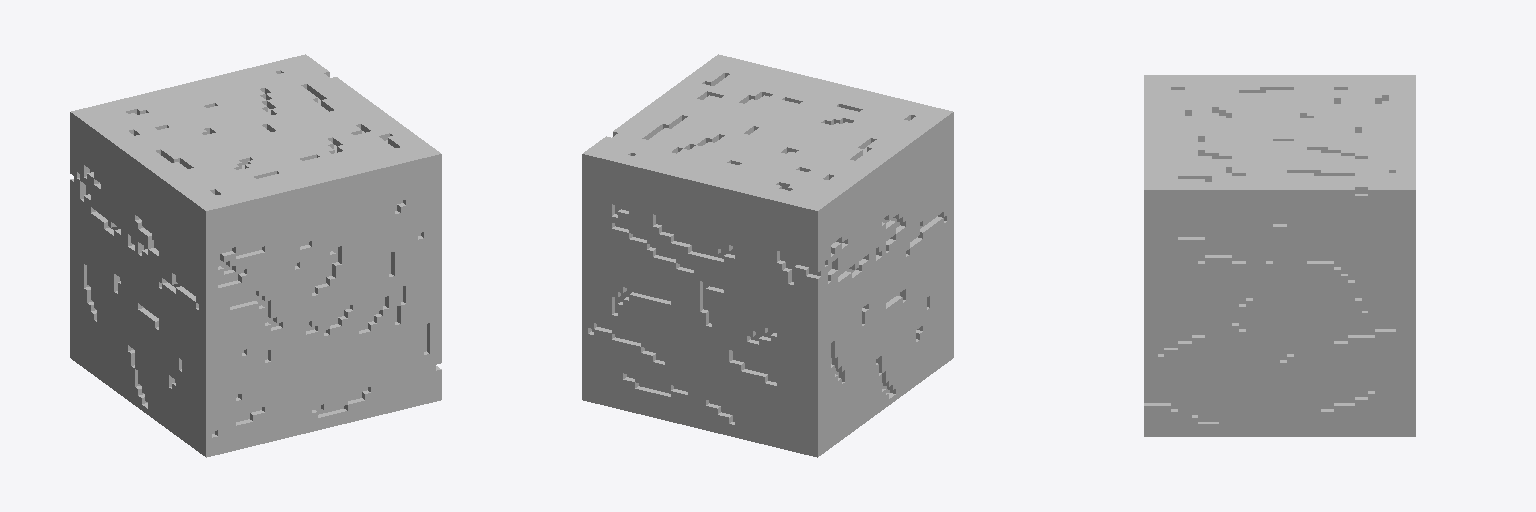
File: Dirt 1 - Center.obj
3 renders of one model, left to right at view 1: azimuth 30°, elevation 25°; view 2: azimuth 150°, elevation 25°; view 3: azimuth 270°, elevation 25°, orthographic.
Parts seen in each view (by area): view 1: object 1; view 2: object 1; view 3: object 1.
Boxes of the visible parts, x1=… form: object 1: x1=70, y1=54, x2=441, y2=457; object 1: x1=582, y1=54, x2=953, y2=457; object 1: x1=1144, y1=75, x2=1415, y2=436.
Size of the model in its own units: 4 by 4 by 4.